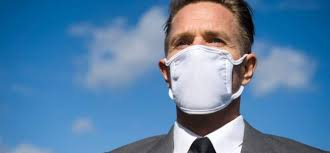masked: (156, 1, 260, 120)
